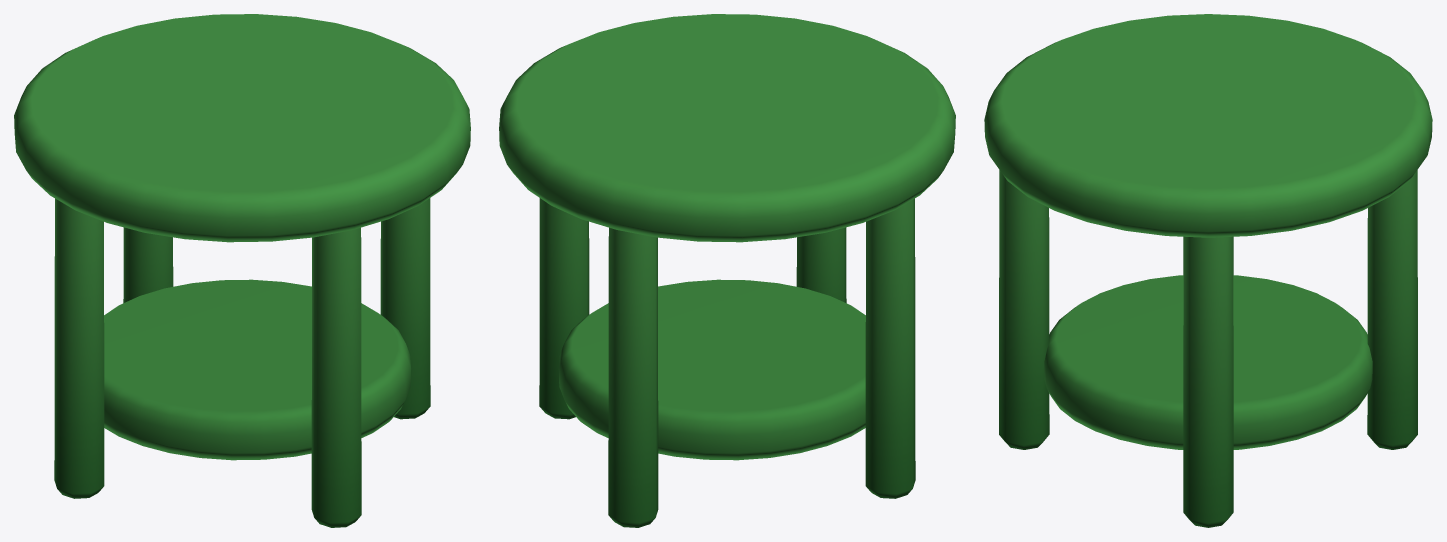
Rendered from Coffee_Table_04.glb.
The picture shows the model from 3 angles, left to right: view 1: azimuth 30°, elevation 25°; view 2: azimuth 150°, elevation 25°; view 3: azimuth 270°, elevation 25°; orthographic projection. The views are drawn at different scales.
Parts seen in each view (by area): view 1: Coffee_Table_04; view 2: Coffee_Table_04; view 3: Coffee_Table_04.
Boxes of the visible parts, x1,y1,x2,y2 form: Coffee_Table_04: (14, 14, 470, 527); Coffee_Table_04: (499, 14, 955, 527); Coffee_Table_04: (984, 14, 1432, 527).
Size of the model in its own units: 0.5717 by 0.4879 by 0.5717.
1 material, 1 textured.
